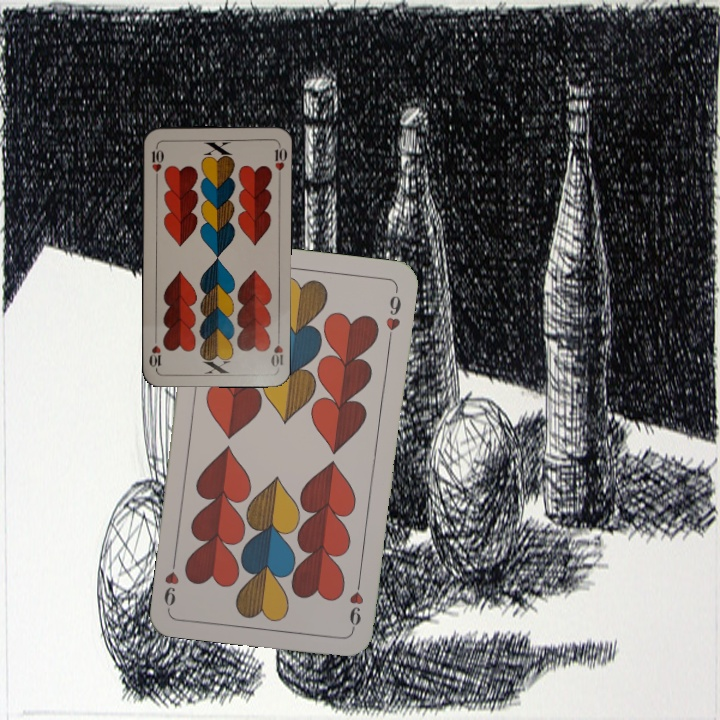H10: (267, 330, 286, 371), (148, 141, 166, 182)
H9: (345, 573, 366, 632)
